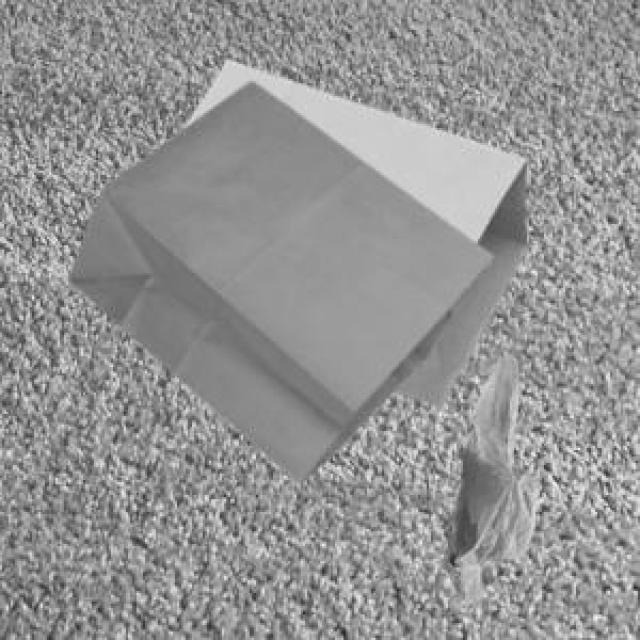paper: (66, 77, 489, 478), (184, 56, 523, 401)
